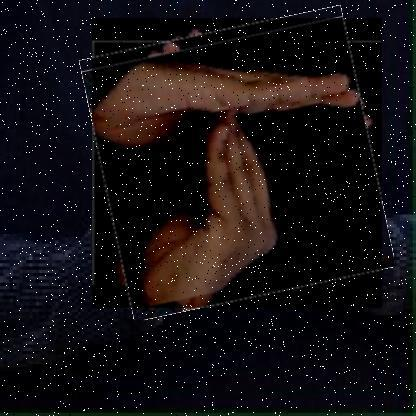Z: (92, 18, 383, 309)
